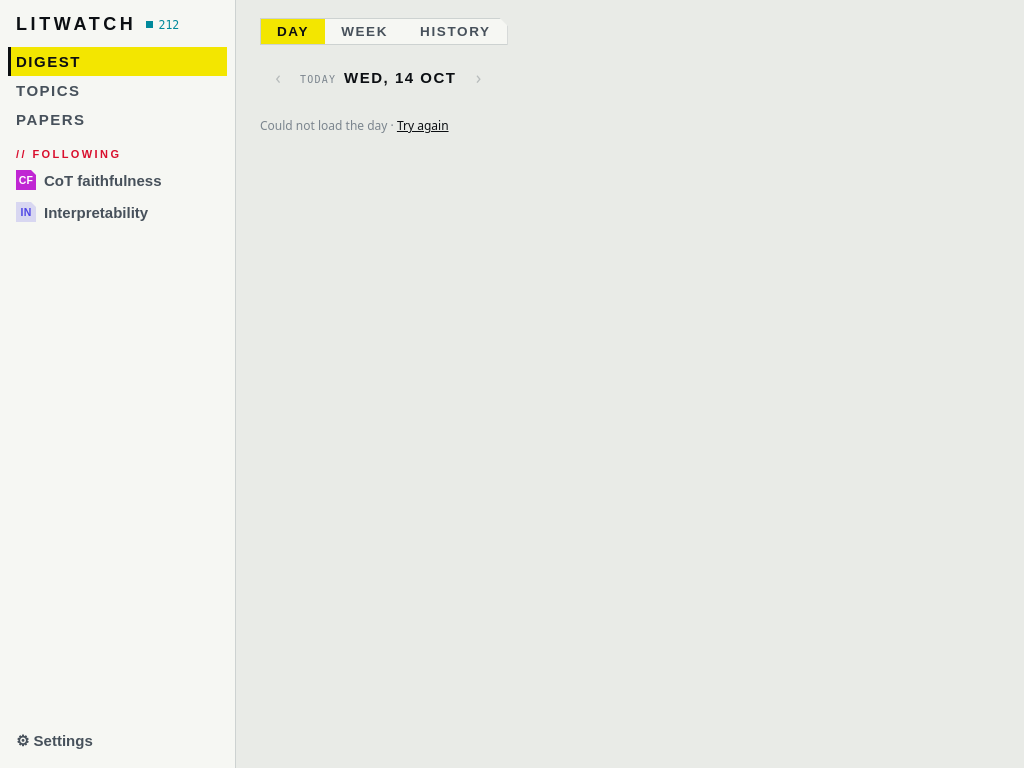
Test case: the Digest › says a failed read of the day, and tries again
Expected: the text "Could not load the day · Try again" is shown, [260, 117, 448, 134]
Click the button "Try again": (423, 126) [397, 117, 448, 134]
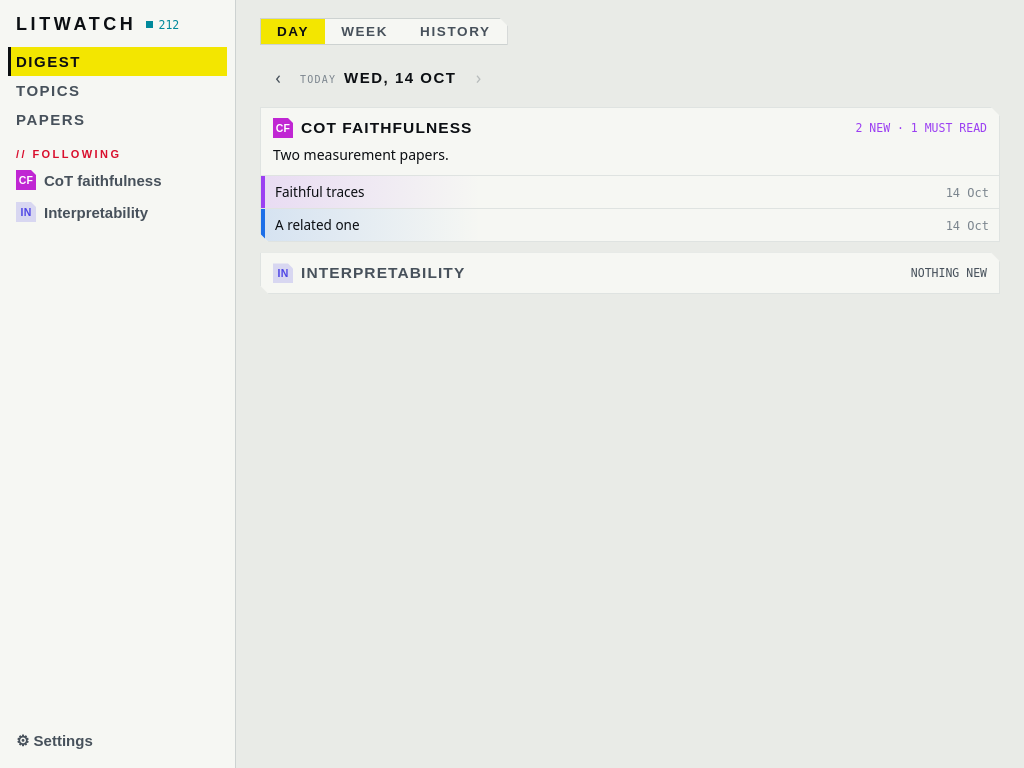
Result: the text "Two measurement papers." is shown at [273, 145, 449, 164]
